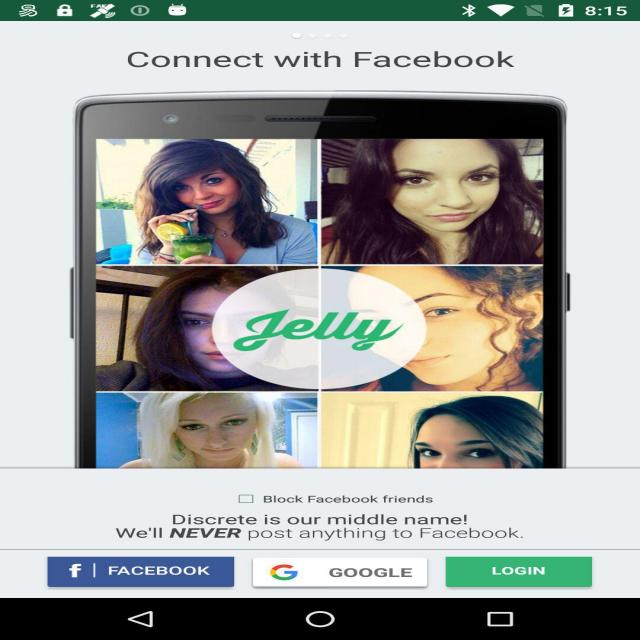button: (38, 553, 244, 590), (436, 551, 611, 592), (249, 552, 430, 591), (259, 23, 370, 46), (228, 489, 260, 507)
icon: (267, 26, 363, 43), (264, 560, 306, 585), (60, 561, 92, 581)
image: (61, 88, 577, 473)
text: (104, 509, 540, 545), (116, 47, 529, 75), (213, 302, 415, 354), (257, 492, 439, 507), (104, 562, 222, 580), (320, 563, 419, 582), (484, 561, 565, 579)
